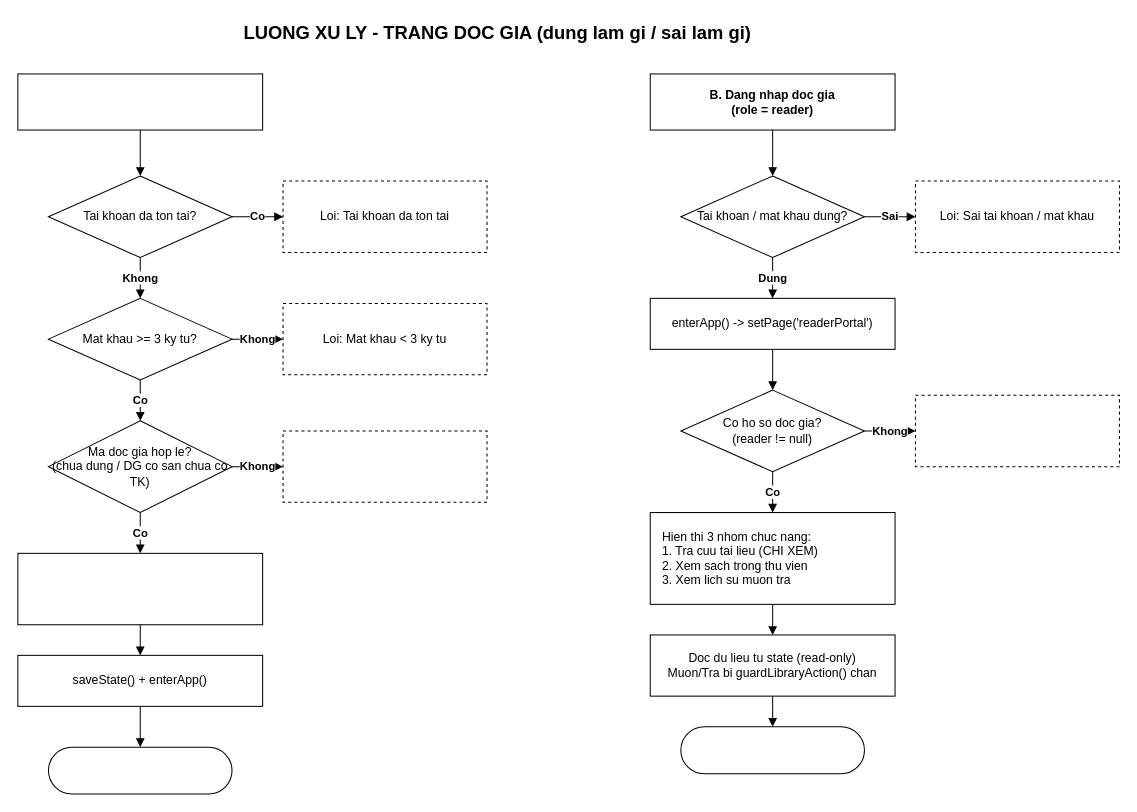
This 1137x812 diagram has some shape labels left out. Here are the shapes that lost their labels. From the top down, the centre of each, then its label:
point 140,101: A. Dang ky tai khoan doc gia (handlePublicReaderSignup)
point 1016,430: Hien thi: Khong co ho so doc gia
point 384,466: Loi: Ma doc gia da ton tai
point 140,588: Tao doc gia moi (limit theo nhom) hoac gan TK vao DG co san + tao account
point 139,770: DUNG: Vao Trang Doc Gia
point 772,750: Ket thuc
